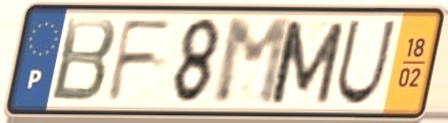8: (167, 15, 225, 108)
B: (47, 14, 120, 105)
F: (104, 16, 177, 105)
M: (211, 15, 294, 109), (266, 18, 349, 107)
U: (332, 17, 399, 108)
